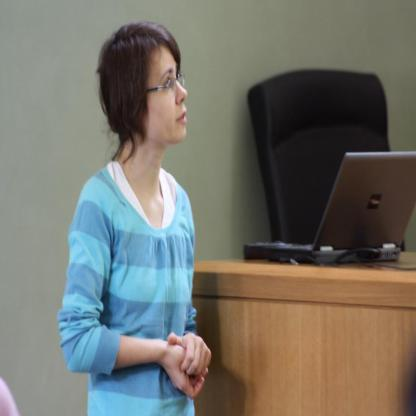board: (255, 126, 414, 277)
